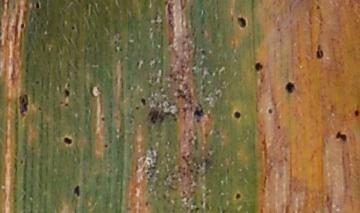tarspot: (158, 108, 178, 125), (17, 93, 30, 116), (333, 130, 348, 142), (148, 108, 159, 123), (315, 42, 324, 58), (236, 16, 247, 29), (284, 81, 295, 94), (175, 87, 186, 99), (72, 184, 81, 198), (62, 136, 74, 145), (139, 96, 148, 107), (192, 109, 204, 117), (166, 3, 172, 17), (62, 88, 71, 97), (232, 110, 241, 119), (254, 61, 262, 71), (274, 26, 283, 34), (353, 108, 360, 118), (19, 22, 27, 30), (99, 115, 106, 124), (102, 142, 109, 151), (58, 99, 65, 108), (36, 106, 44, 113), (199, 49, 207, 56), (34, 1, 40, 10), (267, 107, 273, 116), (315, 3, 321, 11), (134, 60, 141, 66), (235, 192, 240, 200), (63, 102, 71, 107), (69, 25, 75, 31), (276, 124, 281, 131), (33, 79, 39, 84)
